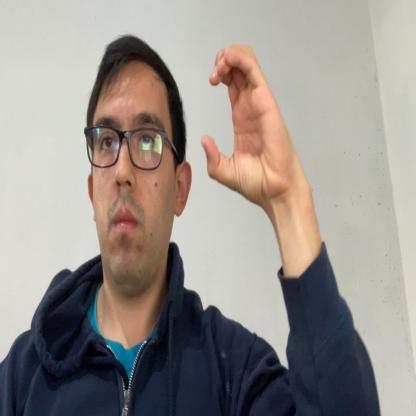C: (201, 42, 289, 207)
